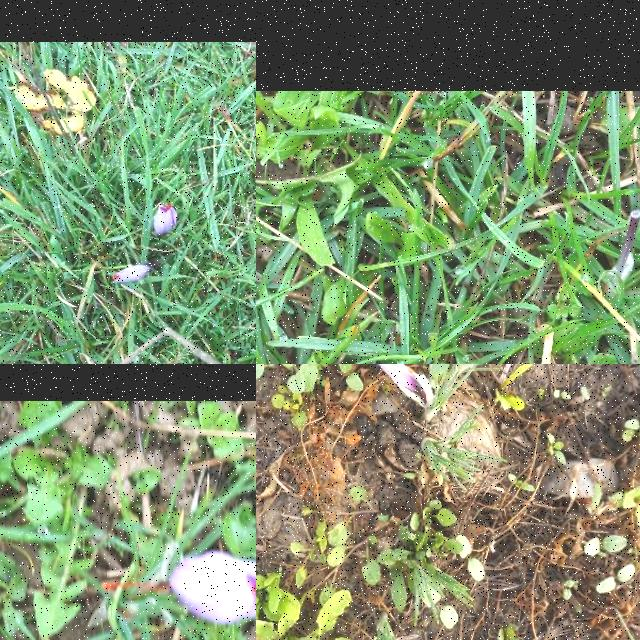flower: (101, 552, 256, 624), (362, 364, 428, 403), (154, 202, 178, 238), (112, 263, 154, 283)
